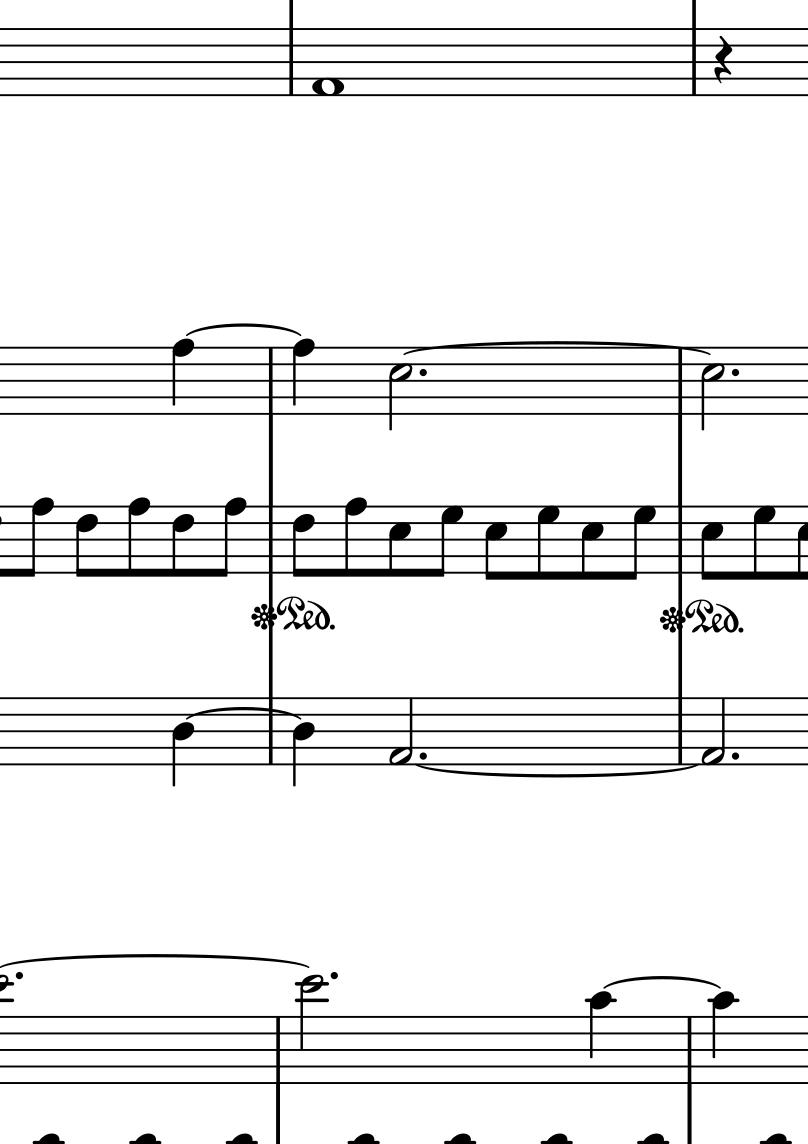1_1: (311, 25, 346, 102)
2_1: (387, 698, 416, 768), (700, 698, 729, 768)
2_12: (299, 973, 327, 1087)
2_5: (699, 346, 726, 432), (387, 346, 413, 433)
4_10: (709, 990, 739, 1087), (586, 991, 616, 1087)
4_4: (171, 696, 196, 790), (292, 698, 317, 788)
4_8: (291, 337, 316, 418), (171, 337, 195, 418)
8_5: (483, 504, 509, 584), (699, 503, 725, 583), (579, 504, 605, 583), (387, 504, 412, 579)
8_6: (74, 504, 100, 579), (171, 504, 196, 579), (291, 504, 316, 578)
8_7: (624, 505, 657, 581), (431, 504, 464, 577), (750, 504, 778, 582), (535, 505, 562, 581)
8_8: (19, 496, 56, 578), (212, 496, 247, 580), (126, 496, 152, 579), (343, 497, 368, 578)
Rests4: (712, 34, 734, 87)
Single_barline: (262, 697, 283, 765), (268, 1016, 289, 1083), (684, 28, 704, 96), (282, 28, 302, 95), (263, 347, 283, 414), (671, 506, 691, 573), (262, 506, 281, 575), (681, 1017, 700, 1083), (672, 697, 689, 764), (672, 353, 690, 416)
Slur: (403, 339, 710, 355), (417, 763, 701, 779), (597, 975, 723, 991), (184, 322, 301, 338), (185, 705, 303, 720)
dot: (415, 365, 430, 381), (728, 365, 742, 381), (328, 969, 340, 983), (729, 750, 742, 762), (417, 749, 429, 761), (14, 970, 25, 982)
